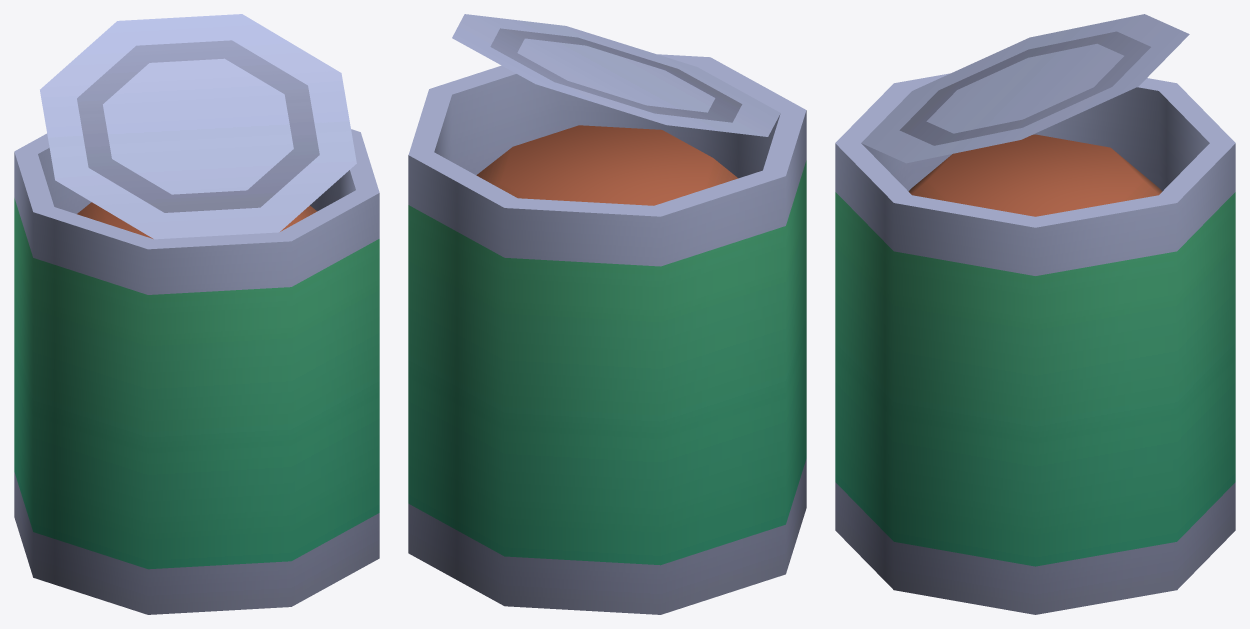
The model's file is can-open.glb.
3 renders of one model, left to right at view 1: azimuth 30°, elevation 25°; view 2: azimuth 150°, elevation 25°; view 3: azimuth 270°, elevation 25°, orthographic. The views are drawn at different scales.
Visible parts, largest first — view 1: can-open; view 2: can-open; view 3: can-open.
Part boxes in pixels (x1,y1,x2,y2): can-open: (14, 14, 379, 614); can-open: (408, 14, 806, 614); can-open: (835, 14, 1235, 614).
Bounding box in the file's own units: 0.3 × 0.4071 × 0.3.
Materials: 1 (1 with a texture image).
